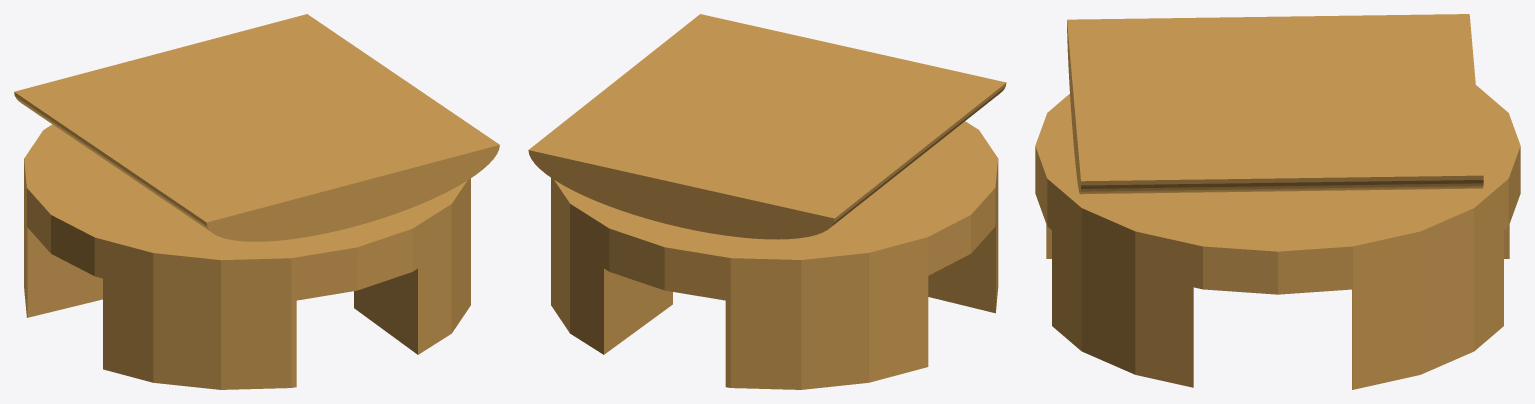
Rendered from table.glb.
The picture shows the model from 3 angles, left to right: view 1: azimuth 30°, elevation 25°; view 2: azimuth 150°, elevation 25°; view 3: azimuth 270°, elevation 25°; orthographic projection. The views are drawn at different scales.
Parts seen in each view (by area): view 1: Mesh_Mesh_head_geo.001_lambert2SG.001; view 2: Mesh_Mesh_head_geo.001_lambert2SG.001; view 3: Mesh_Mesh_head_geo.001_lambert2SG.001.
Boxes of the visible parts, left/top/right/bottom form: Mesh_Mesh_head_geo.001_lambert2SG.001: left=14, top=14, right=499, bottom=389; Mesh_Mesh_head_geo.001_lambert2SG.001: left=528, top=14, right=1006, bottom=389; Mesh_Mesh_head_geo.001_lambert2SG.001: left=1035, top=14, right=1520, bottom=389.
Size of the model in its own units: 95 by 41 by 92.
